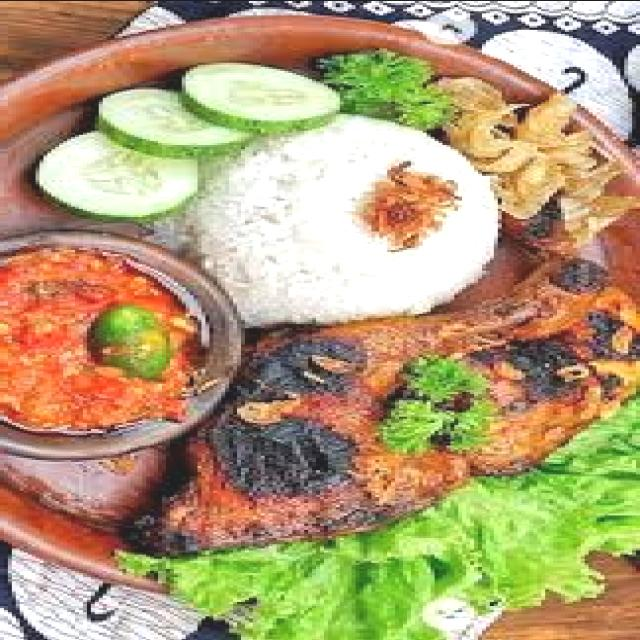ayam bakar: (130, 257, 640, 554)
nasi: (182, 113, 498, 327)
